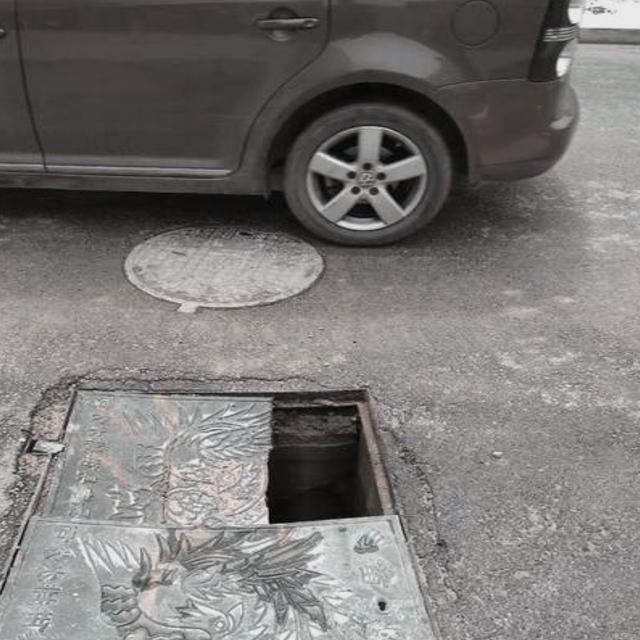broke: (0, 350, 487, 640)
